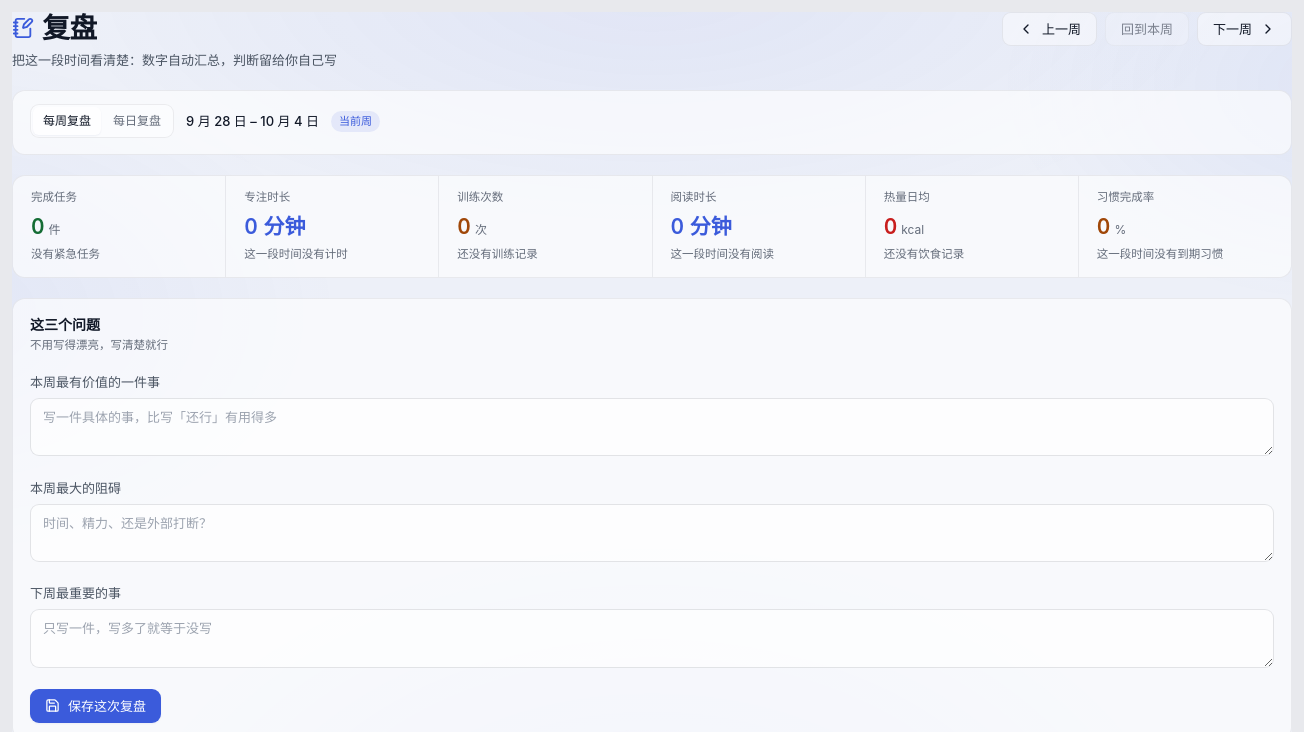
ReviewPage 填写 › 换到上一个周期会把已存的内容读回表单
This screenshot has width=1304, height=732.
Expected: the text box labelled "本周最有价值的一件事" is empty, [30,398,1274,456]
Click the button "上一周": (1049, 29) [1002,12,1097,46]
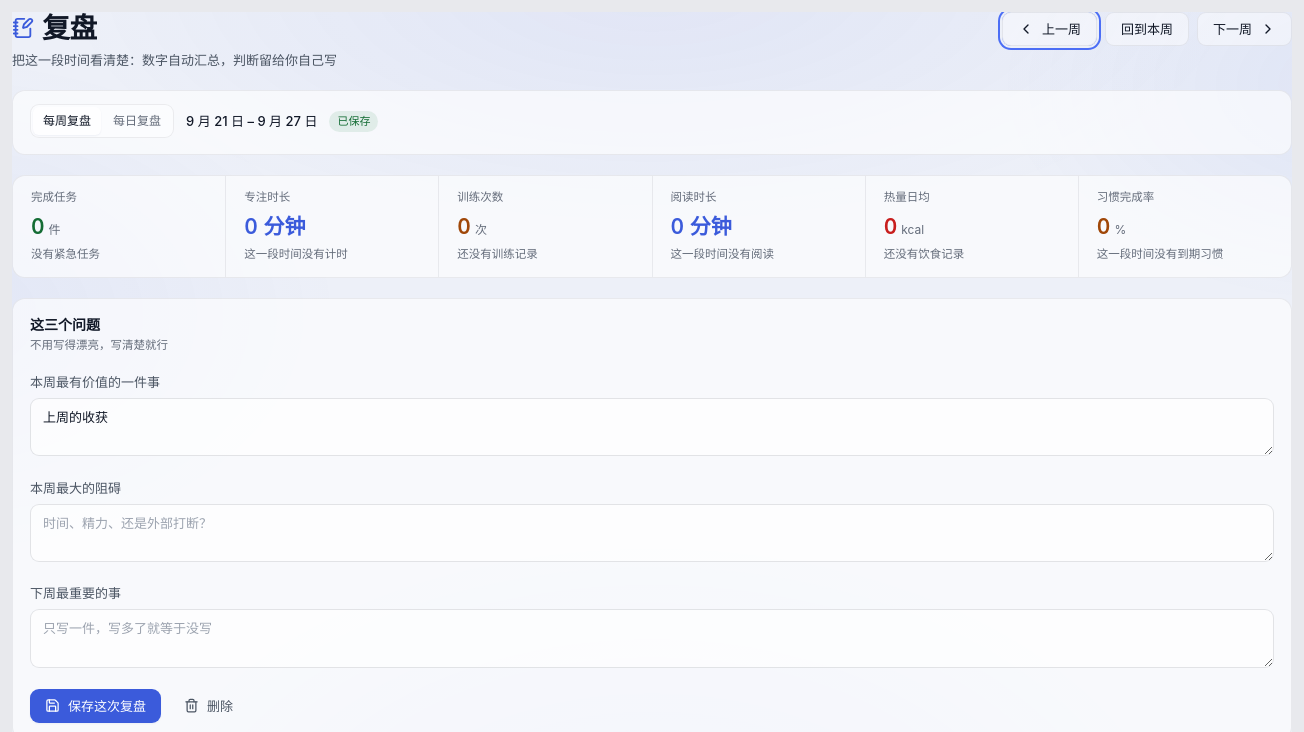
Result: the text box labelled "本周最有价值的一件事" holds "上周的收获" at [30,398,1274,456]
Result: the button "回到本周" is enabled at [1105,12,1189,46]
